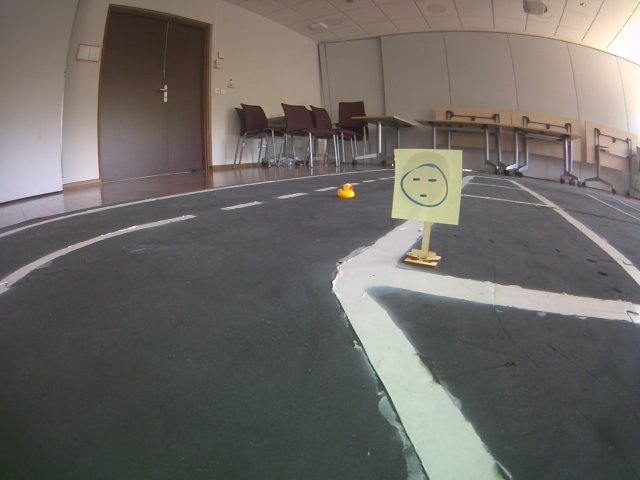Smiley: (390, 147, 465, 228)
